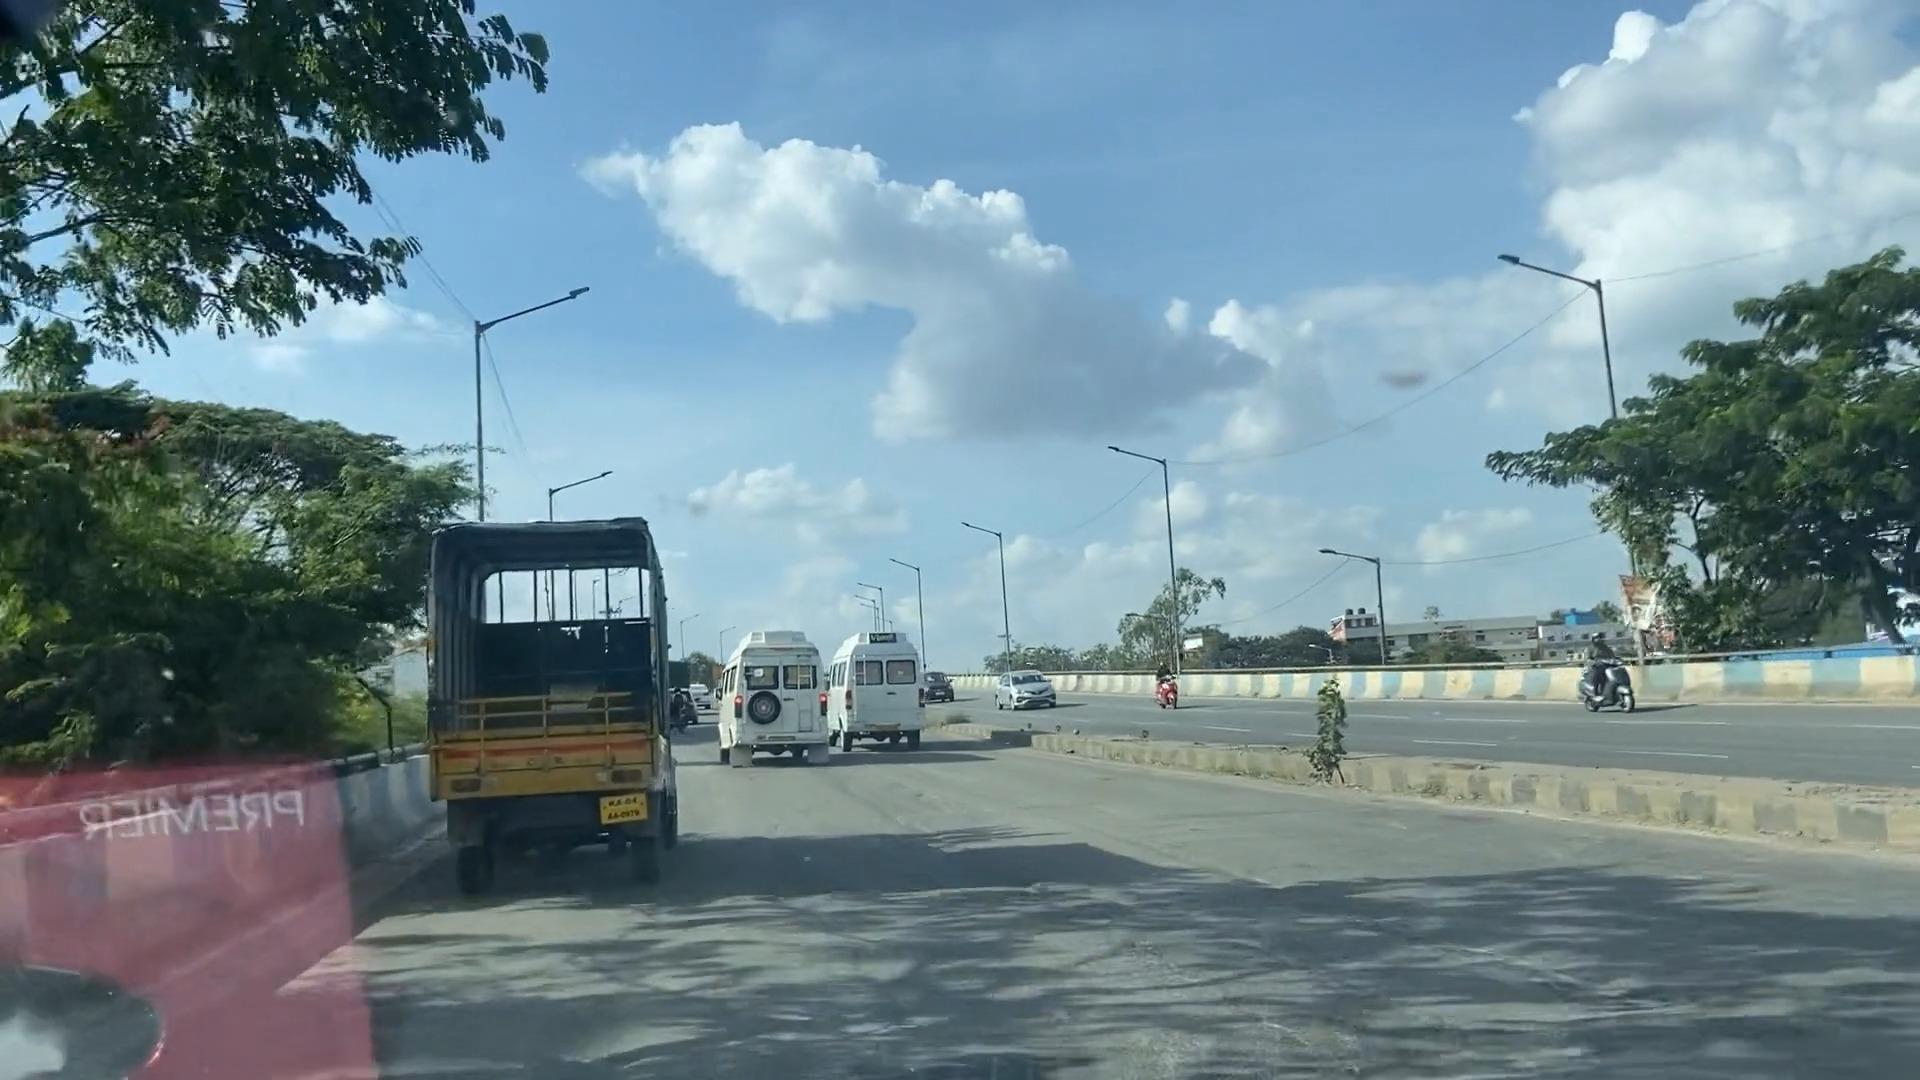HMV: (397, 479, 673, 860), (716, 618, 833, 778), (832, 615, 918, 761)
RoadDamages: (1088, 878, 1598, 1080)
